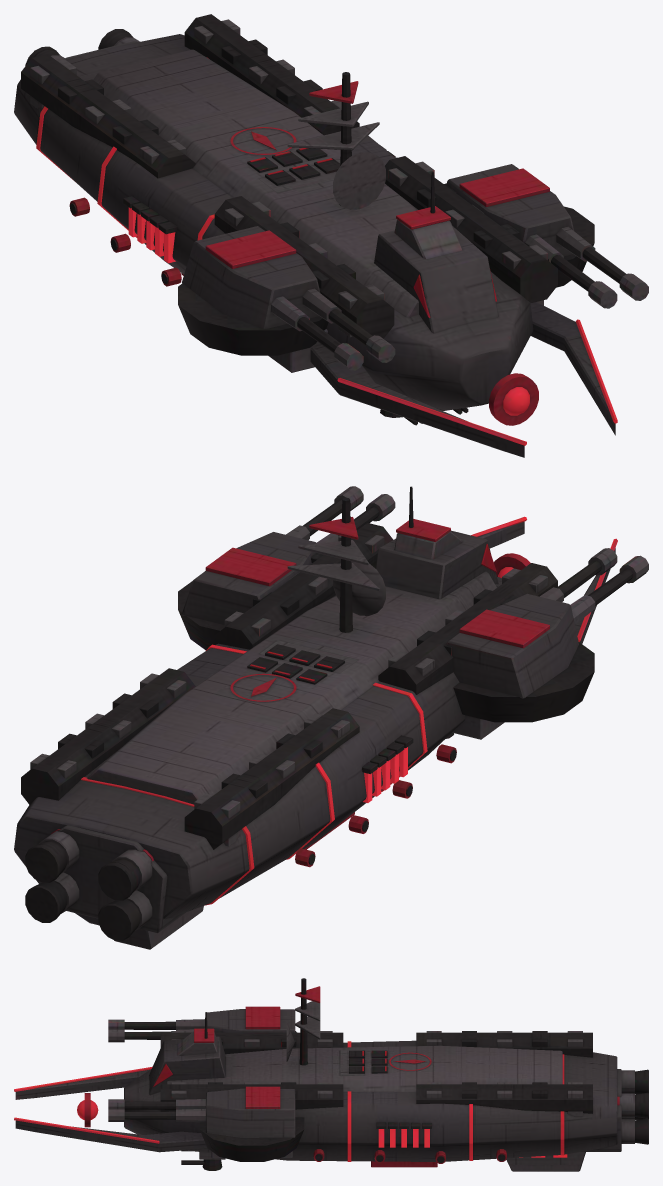
File: vorrakai_frigate.glb
3 views of the same model, one above another, from view 1: azimuth 30°, elevation 25°; view 2: azimuth 150°, elevation 25°; view 3: azimuth 270°, elevation 25° (orthographic). The views are drawn at different scales.
Parts seen in each view (by area): view 1: HULL, SYS_WPN2, SYS_BUS_A, SYS_BUS_F, SYS_BRIDGE, SYS_WPN1, SYS_SENSORS, SYS_MSL, SYS_REACTOR, SYS_DRIVE; view 2: HULL, SYS_WPN2, SYS_BUS_A, SYS_DRIVE, SYS_BUS_F, SYS_WPN1, SYS_BRIDGE, SYS_SENSORS, SYS_MSL, SYS_REACTOR, SYS_JUMP; view 3: HULL, SYS_WPN1, SYS_BUS_A, SYS_BUS_F, SYS_WPN2, SYS_BRIDGE, SYS_DRIVE, SYS_SENSORS, SYS_REACTOR, SYS_JUMP, SYS_MSL, SYS_PD.
Boxes of the visible parts, x1=… form: HULL: x1=14, y1=34, x2=617, y2=457; SYS_WPN2: x1=178, y1=226, x2=395, y2=372; SYS_BUS_A: x1=21, y1=14, x2=359, y2=178; SYS_BUS_F: x1=214, y1=156, x2=557, y2=338; SYS_BRIDGE: x1=374, y1=172, x2=498, y2=333; SYS_WPN1: x1=446, y1=164, x2=648, y2=308; SYS_SENSORS: x1=287, y1=72, x2=385, y2=209; SYS_MSL: x1=247, y1=148, x2=340, y2=193; SYS_REACTOR: x1=123, y1=145, x2=397, y2=275; SYS_DRIVE: x1=25, y1=29, x2=139, y2=65; HULL: x1=14, y1=516, x2=617, y2=925; SYS_WPN2: x1=446, y1=548, x2=648, y2=739; SYS_BUS_A: x1=21, y1=668, x2=359, y2=849; SYS_DRIVE: x1=25, y1=825, x2=185, y2=940; SYS_BUS_F: x1=214, y1=523, x2=557, y2=694; SYS_WPN1: x1=178, y1=486, x2=395, y2=650; SYS_BRIDGE: x1=375, y1=486, x2=498, y2=599; SYS_SENSORS: x1=287, y1=497, x2=385, y2=632; SYS_MSL: x1=247, y1=640, x2=358, y2=684; SYS_REACTOR: x1=304, y1=735, x2=413, y2=849; SYS_JUMP: x1=114, y1=906, x2=203, y2=949; HULL: x1=14, y1=1040, x2=617, y2=1163; SYS_WPN1: x1=108, y1=1086, x2=304, y2=1161; SYS_BUS_A: x1=416, y1=1031, x2=592, y2=1116; SYS_BUS_F: x1=160, y1=1031, x2=343, y2=1111; SYS_WPN2: x1=108, y1=1006, x2=296, y2=1042; SYS_BRIDGE: x1=149, y1=1012, x2=225, y2=1095; SYS_DRIVE: x1=581, y1=1069, x2=648, y2=1151; SYS_SENSORS: x1=286, y1=978, x2=320, y2=1065; SYS_REACTOR: x1=371, y1=1122, x2=437, y2=1167; SYS_JUMP: x1=506, y1=1152, x2=585, y2=1171; SYS_MSL: x1=339, y1=1050, x2=387, y2=1075; SYS_PD: x1=181, y1=1150, x2=225, y2=1170.
Size of the model in its own units: 14.43 by 10.12 by 31.2.
1 material, 1 textured.
